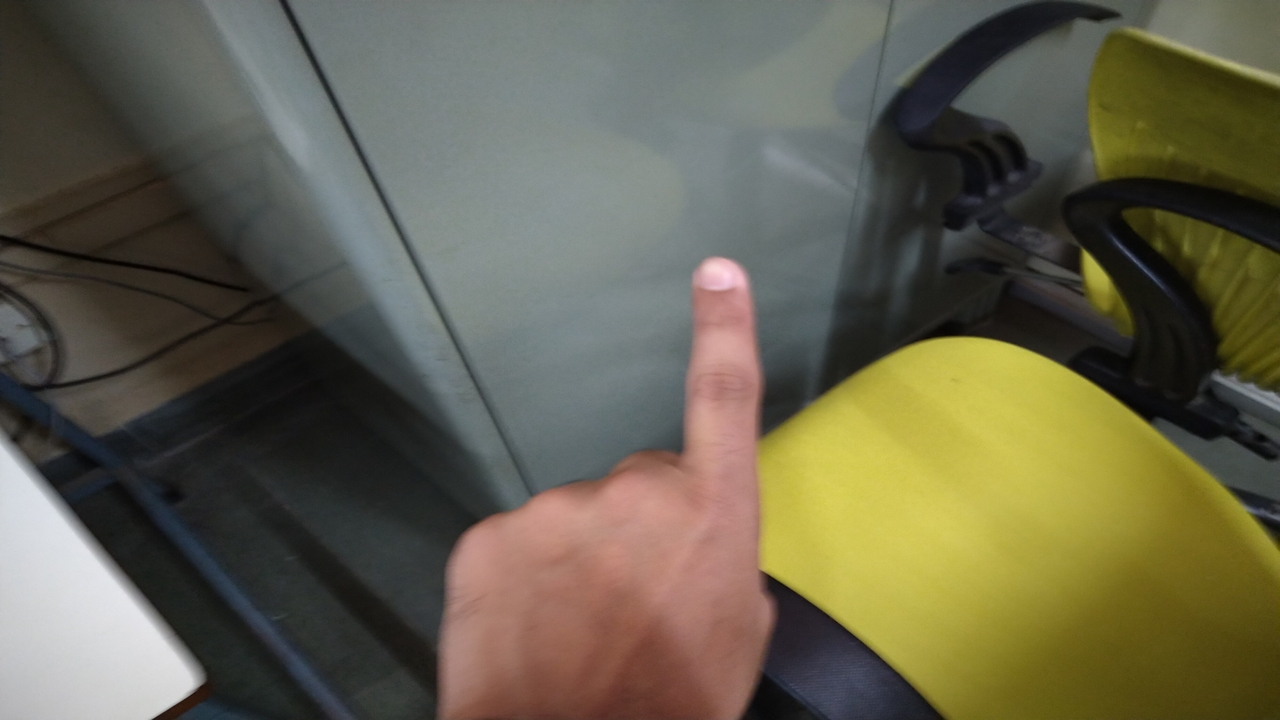fingertip: (686, 248, 756, 314)
